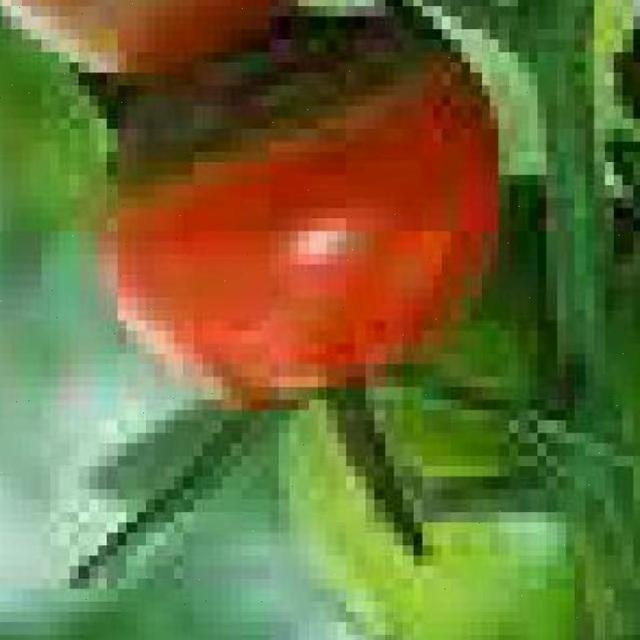Blossom End Rot Fruit: (63, 0, 296, 142)
